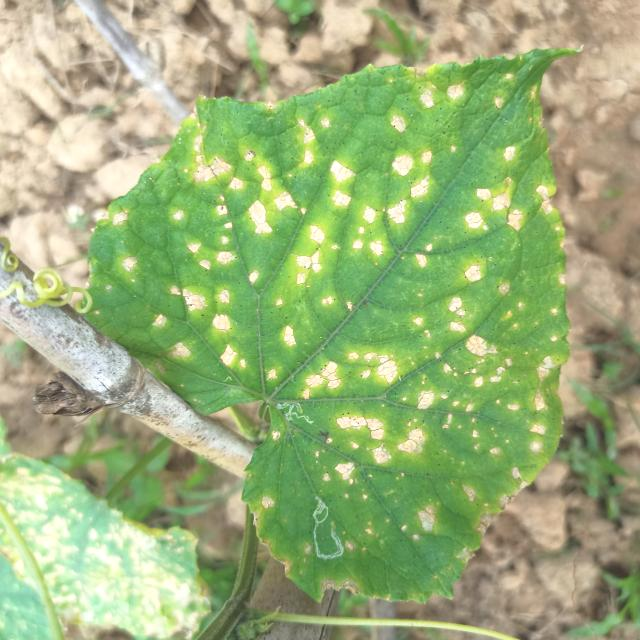disease_cucumber: (124, 77, 562, 577)
